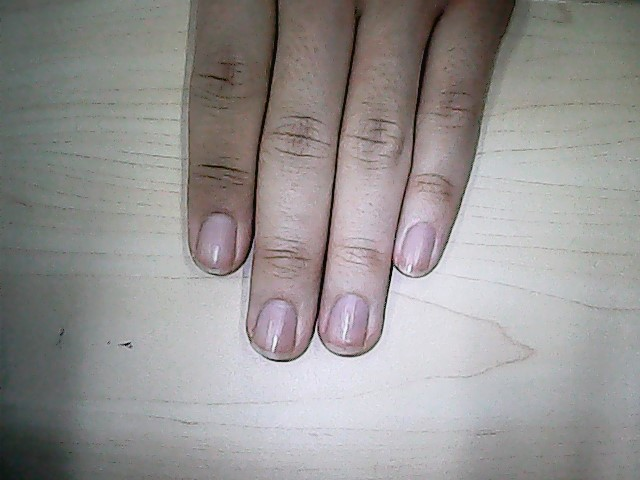nail: (256, 301, 293, 361), (197, 217, 235, 275), (331, 296, 364, 353), (406, 225, 431, 279)
